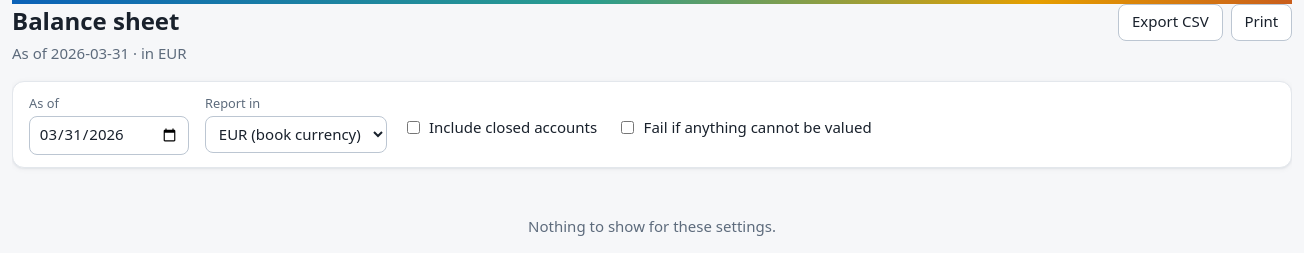
Test: BalanceSheetReport › re-queries in another currency when one is chosen
The width and height of the screenshot is (1304, 253).
Check: the text "As of 2026-03-31 · in EUR" is shown, box [12,43,187,65]
Select "USD — US Dollar" in the dropdown: (296, 134) [205,116,387,153]
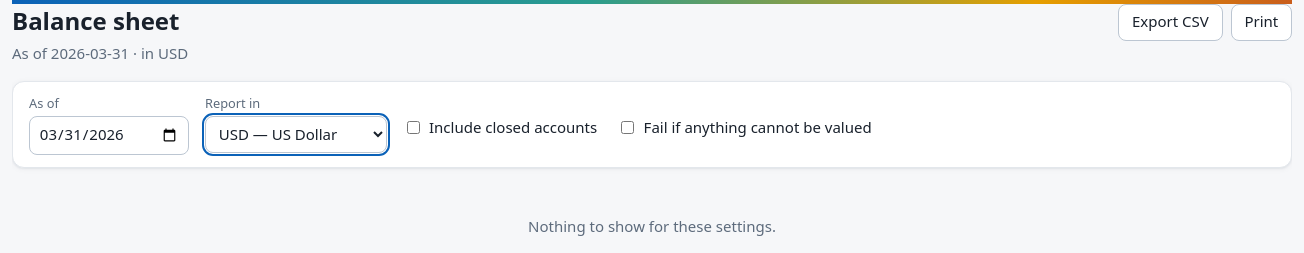
Check: the text "As of 2026-03-31 · in USD" is shown, box [12,43,188,65]
